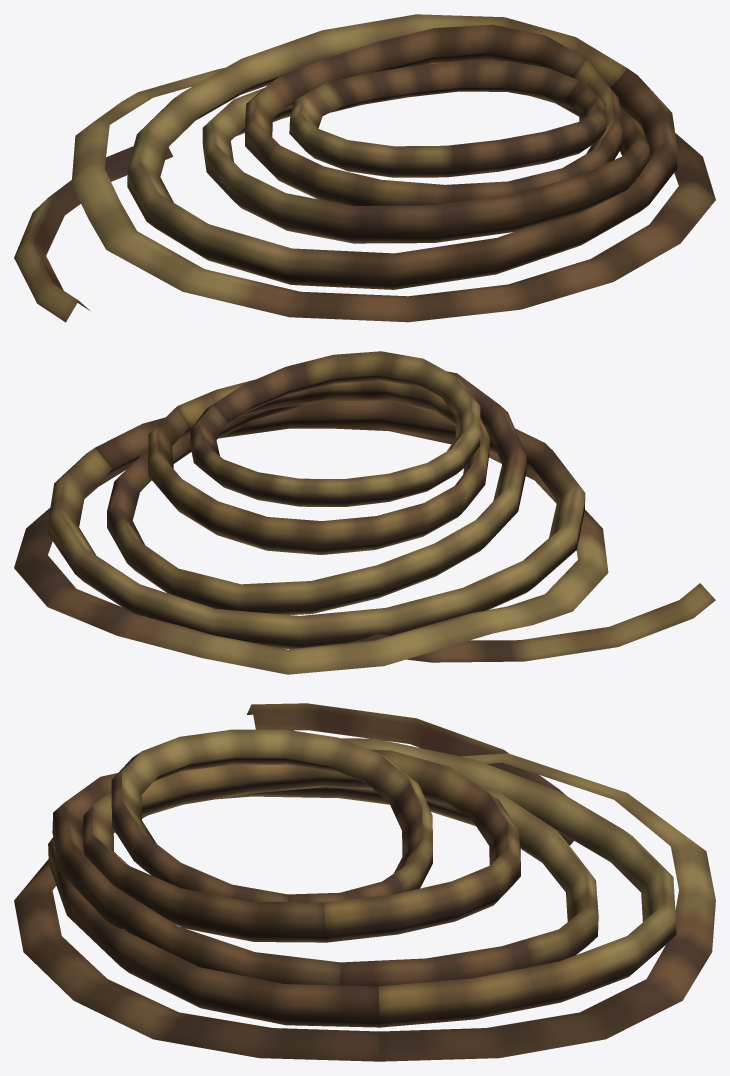
File: EnvObjMD_Rope_A.FBX
The picture shows the model from 3 angles, top to bottom: view 1: azimuth 30°, elevation 25°; view 2: azimuth 150°, elevation 25°; view 3: azimuth 270°, elevation 25°; orthographic projection. The views are drawn at different scales.
Parts seen in each view (by area): view 1: EnvObjMD_Rope_A; view 2: EnvObjMD_Rope_A; view 3: EnvObjMD_Rope_A.
Boxes of the visible parts, x1,y1,x2,y2 form: EnvObjMD_Rope_A: (14, 14, 715, 322); EnvObjMD_Rope_A: (14, 351, 715, 674); EnvObjMD_Rope_A: (14, 703, 715, 1061).
Size of the model in its own units: 311 by 261 by 60.39.
1 material, 1 textured.
